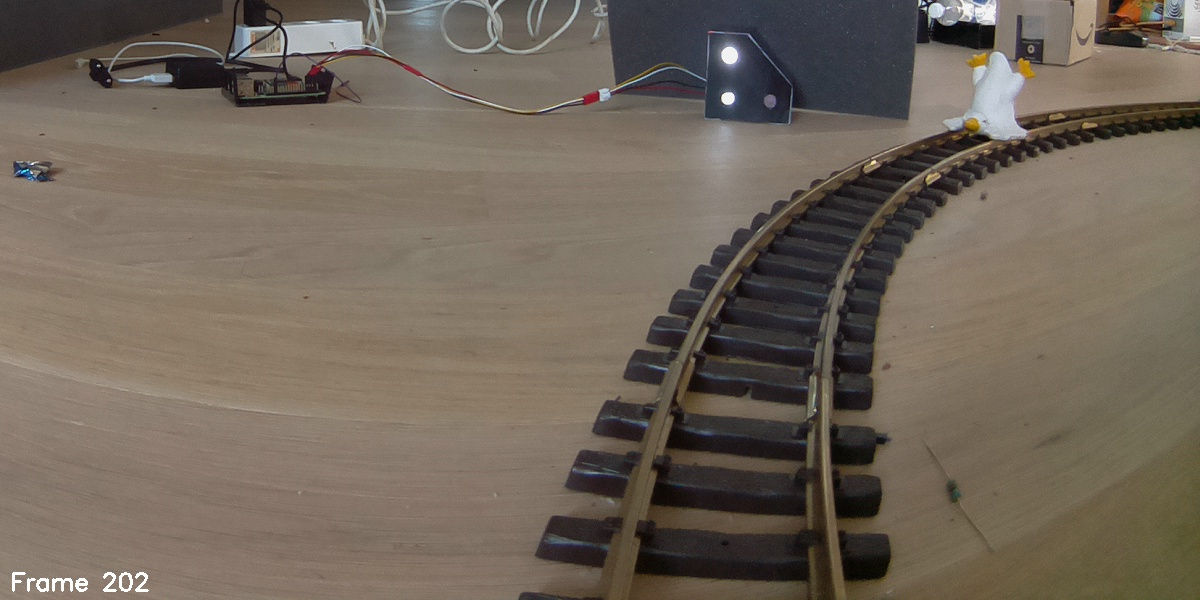Ente: (937, 47, 1034, 146)
Fahrt: (702, 24, 796, 127)
